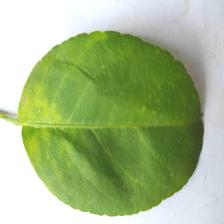greening: (12, 77, 176, 180)
